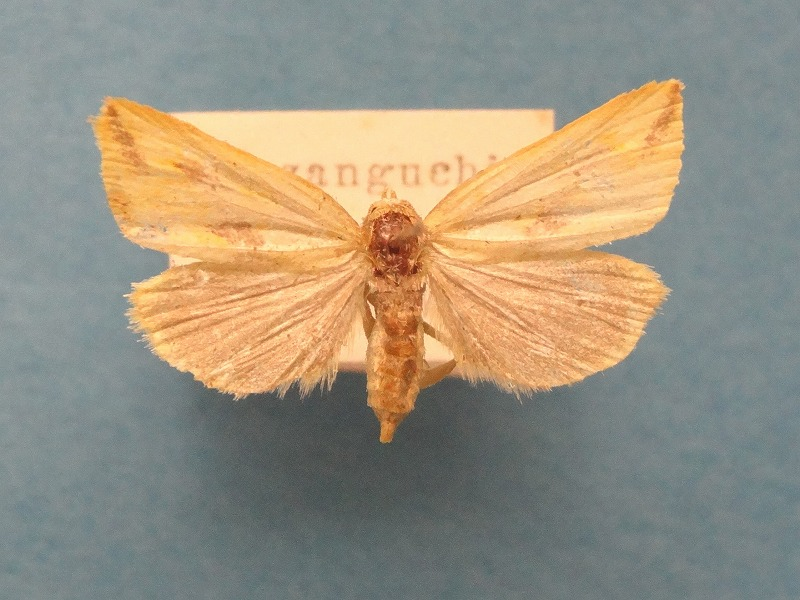Noctuidae: (87, 71, 691, 448)
